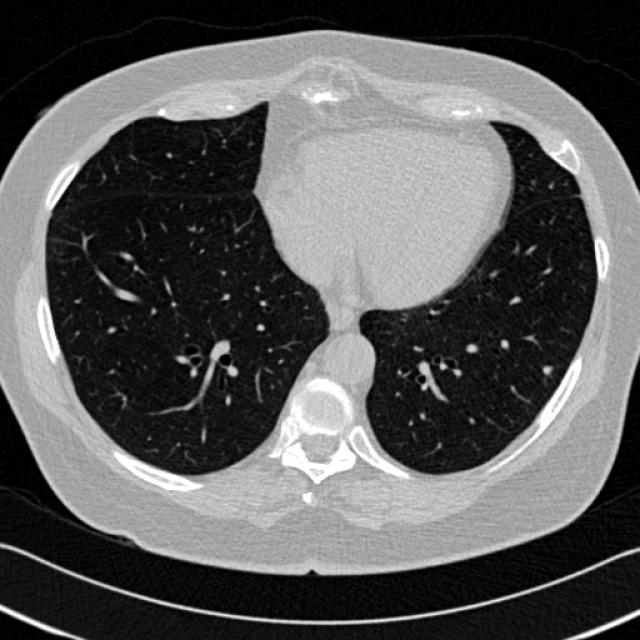nodule: (534, 358, 556, 380)
